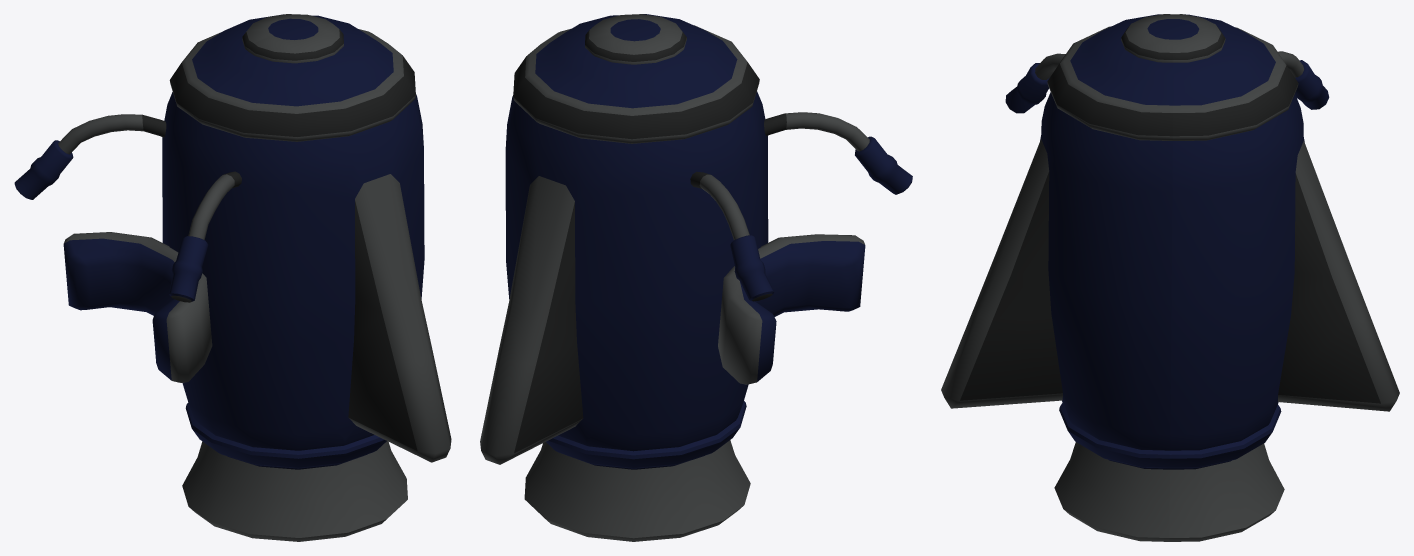
The model's file is JetPack.FBX.
The picture shows the model from 3 angles, left to right: view 1: azimuth 30°, elevation 25°; view 2: azimuth 150°, elevation 25°; view 3: azimuth 270°, elevation 25°; orthographic projection.
Parts seen in each view (by area): view 1: Cylinder006, Plane010, Cylinder008, Cylinder007; view 2: Cylinder006, Plane010, Cylinder007, Cylinder008; view 3: Cylinder006, Cylinder007, Cylinder008.
Boxes of the visible parts, left/top/right/bottom form: Cylinder006: left=162, top=14, right=451, bottom=541; Plane010: left=63, top=232, right=212, bottom=382; Cylinder008: left=14, top=114, right=166, bottom=199; Cylinder007: left=169, top=171, right=241, bottom=302; Cylinder006: left=480, top=14, right=768, bottom=541; Plane010: left=718, top=234, right=865, bottom=384; Cylinder007: left=764, top=112, right=912, bottom=194; Cylinder008: left=690, top=171, right=774, bottom=301; Cylinder006: left=941, top=14, right=1399, bottom=541; Cylinder007: left=1005, top=53, right=1065, bottom=113; Cylinder008: left=1278, top=51, right=1329, bottom=109.
Size of the model in its own units: 43.99 by 61.56 by 54.59.
